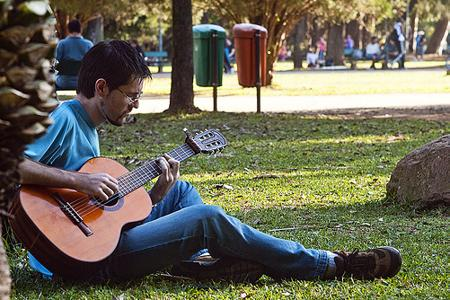person: (14, 38, 402, 289)
